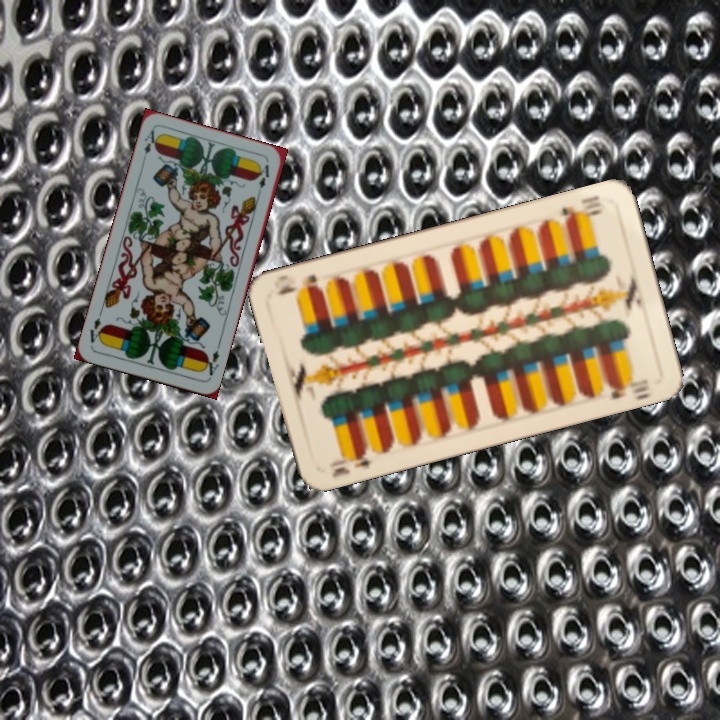E10: (327, 443, 373, 480), (557, 191, 605, 226)
EA: (199, 346, 222, 381), (140, 126, 161, 157)
